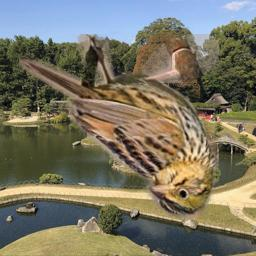Sparrow: (19, 34, 219, 218)
